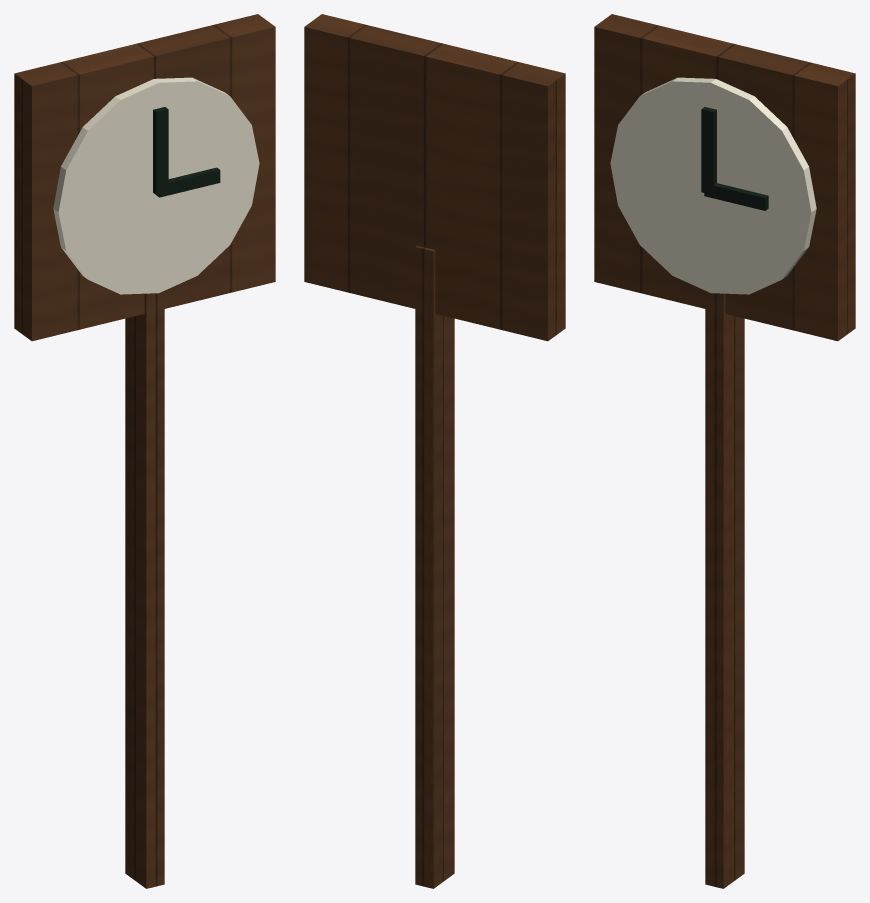
The model's file is zegar_fabryczny.glb.
3 renders of one model, left to right at view 1: azimuth 30°, elevation 25°; view 2: azimuth 150°, elevation 25°; view 3: azimuth 330°, elevation 25°, orthographic.
Visible parts, largest first — view 1: zegar_fabryczny; view 2: zegar_fabryczny; view 3: zegar_fabryczny.
Part boxes in pixels (x1=…): zegar_fabryczny: x1=14, y1=14, x2=275, y2=888; zegar_fabryczny: x1=304, y1=14, x2=565, y2=888; zegar_fabryczny: x1=594, y1=14, x2=855, y2=888.
Size of the model in its own units: 0.8 by 2.6 by 0.16.
3 materials, 1 textured.
